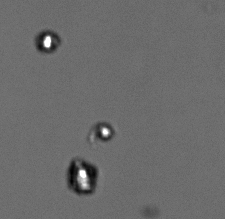Living Cell: (66, 157, 99, 195), (34, 28, 61, 53), (94, 120, 116, 142)
